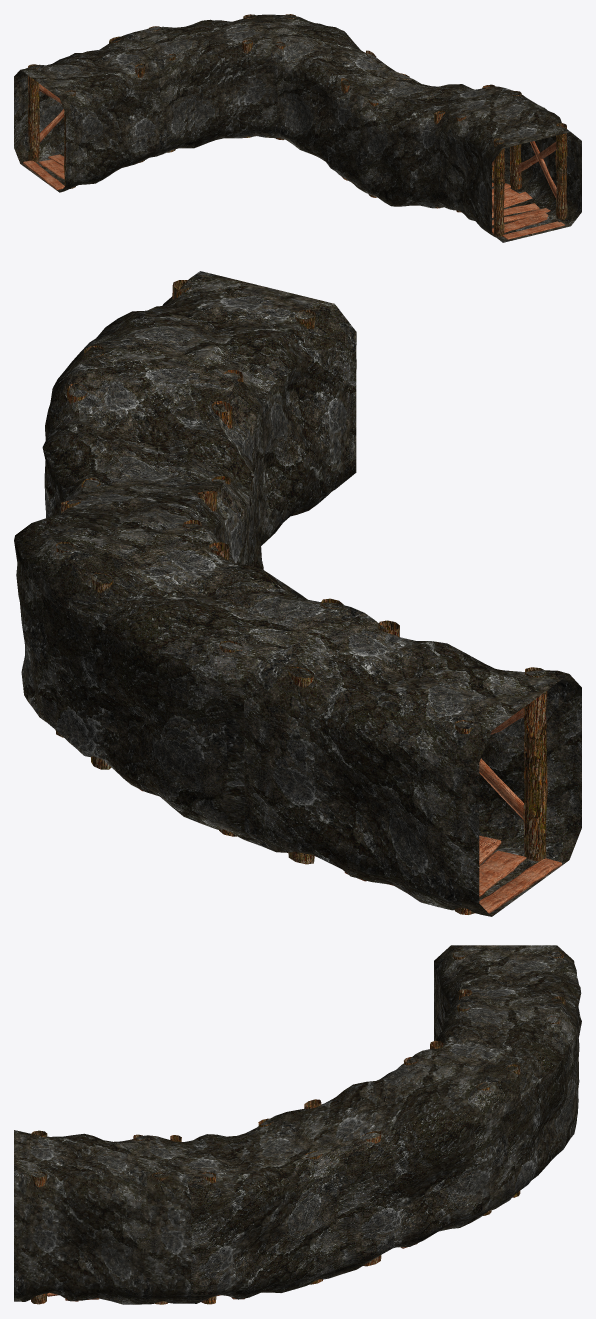
The model's file is Cave_036.fbx.
3 views of the same model, one above another, from view 1: azimuth 30°, elevation 25°; view 2: azimuth 150°, elevation 25°; view 3: azimuth 270°, elevation 25° (orthographic). The views are drawn at different scales.
Visible parts, largest first — view 1: Cave.036; view 2: Cave.036; view 3: Cave.036.
Boxes of the visible parts, x1,y1,x2,y2 form: Cave.036: [14, 14, 581, 242]; Cave.036: [14, 271, 581, 916]; Cave.036: [14, 945, 581, 1304].
Size of the model in its own units: 1221 by 400 by 1217.
